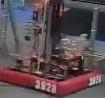red_number: (34, 78, 59, 95), (87, 74, 102, 88)
